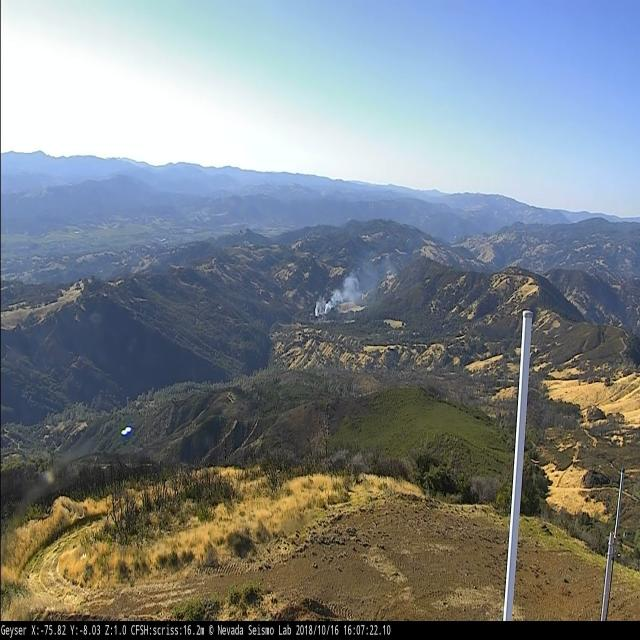smoke: (311, 273, 362, 321)
